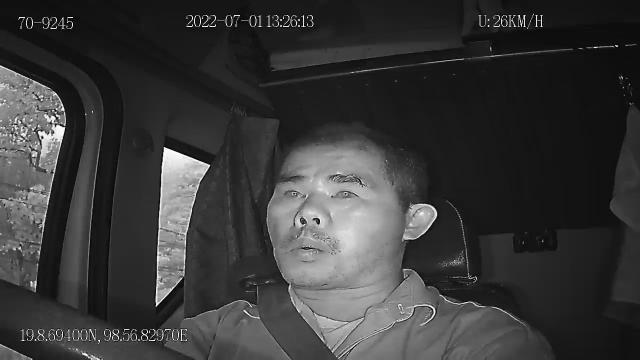SafeDriving: (324, 178, 365, 206), (276, 179, 310, 206)
Seatbelt: (255, 280, 342, 360)
